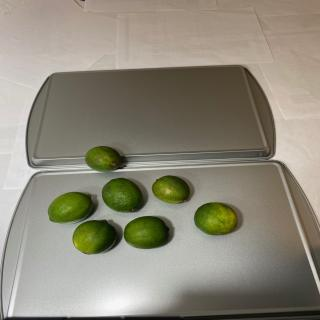Lemon: (72, 220, 117, 254), (47, 191, 93, 224), (124, 216, 170, 249), (194, 202, 238, 235), (101, 178, 143, 212), (152, 175, 190, 204)
